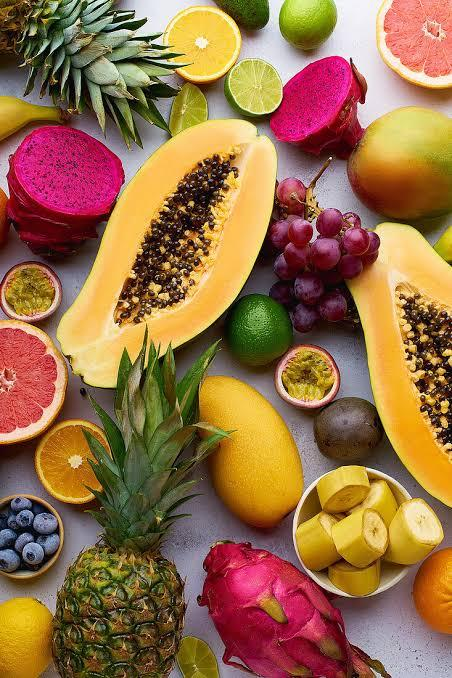thanh_long: (201, 542, 375, 678)
